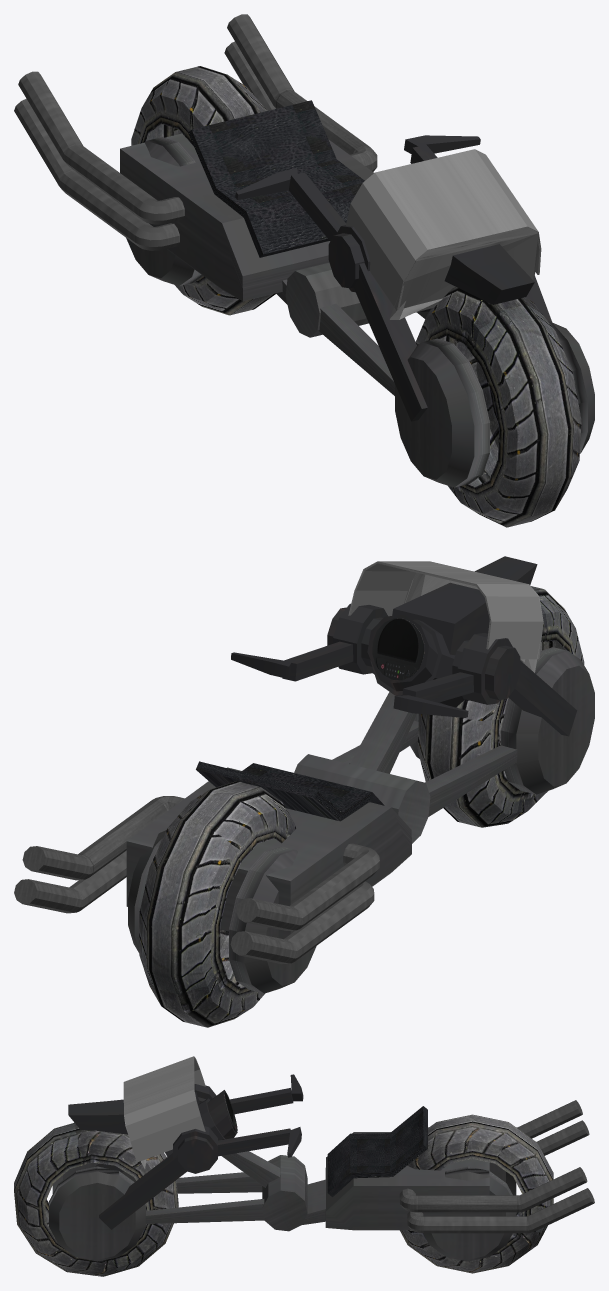
The model's file is Bike - no hands.fbx.
The picture shows the model from 3 angles, top to bottom: view 1: azimuth 30°, elevation 25°; view 2: azimuth 150°, elevation 25°; view 3: azimuth 270°, elevation 25°; orthographic projection. The views are drawn at different scales.
Visible parts, largest first — view 1: pTorus8, pCube31, pCube30, pCube33, pCylinder30, pTorus7, pCylinder15, pCylinder27, pCube29, pCylinder17, pCube32, pCylinder5 (+7 smaller); view 2: pTorus7, pCube33, pTorus8, pCube31, pCylinder30, pCube32, pCube30, pCylinder3, pCylinder15, pCylinder5, pCylinder17, pCylinder27 (+11 smaller); view 3: pTorus8, pTorus7, pCube33, pCylinder33, pCube31, pCube30, pCylinder17, pCylinder28, pCylinder29, pCylinder5, pCube4, pCube34 (+12 smaller).
Boxes of the visible parts, x1,y1,x2,y2 form: pTorus8: [415, 287, 581, 527]; pCube31: [346, 149, 541, 319]; pCube30: [188, 100, 364, 257]; pCube33: [120, 133, 373, 301]; pCylinder30: [395, 338, 489, 487]; pTorus7: [131, 66, 275, 315]; pCylinder15: [18, 71, 184, 224]; pCylinder27: [14, 98, 179, 250]; pCube29: [353, 263, 427, 421]; pCylinder17: [227, 14, 377, 171]; pCube32: [444, 244, 534, 304]; pCylinder5: [285, 262, 368, 337]; pTorus7: [139, 781, 296, 1027]; pCube33: [126, 767, 411, 939]; pTorus8: [417, 586, 584, 827]; pCube31: [348, 561, 543, 672]; pCylinder30: [501, 647, 594, 794]; pCube32: [392, 556, 537, 655]; pCube30: [196, 761, 384, 821]; pCylinder3: [229, 846, 316, 993]; pCylinder15: [236, 843, 379, 930]; pCylinder5: [294, 754, 430, 843]; pCylinder17: [22, 796, 184, 880]; pCylinder27: [230, 881, 374, 964]; pTorus8: [14, 1122, 178, 1276]; pTorus7: [400, 1114, 553, 1273]; pCube33: [325, 1132, 489, 1230]; pCylinder33: [49, 1166, 145, 1261]; pCube31: [123, 1056, 205, 1168]; pCube30: [327, 1106, 427, 1196]; pCylinder17: [399, 1167, 587, 1212]; pCylinder28: [407, 1188, 594, 1233]; pCylinder29: [423, 1166, 516, 1261]; pCylinder5: [262, 1155, 307, 1231]; pCube4: [99, 1153, 188, 1229]; pCube34: [145, 1199, 264, 1223].
Size of the model in its own units: 0.5522 by 0.6528 by 1.71.
7 materials, 7 textured.
